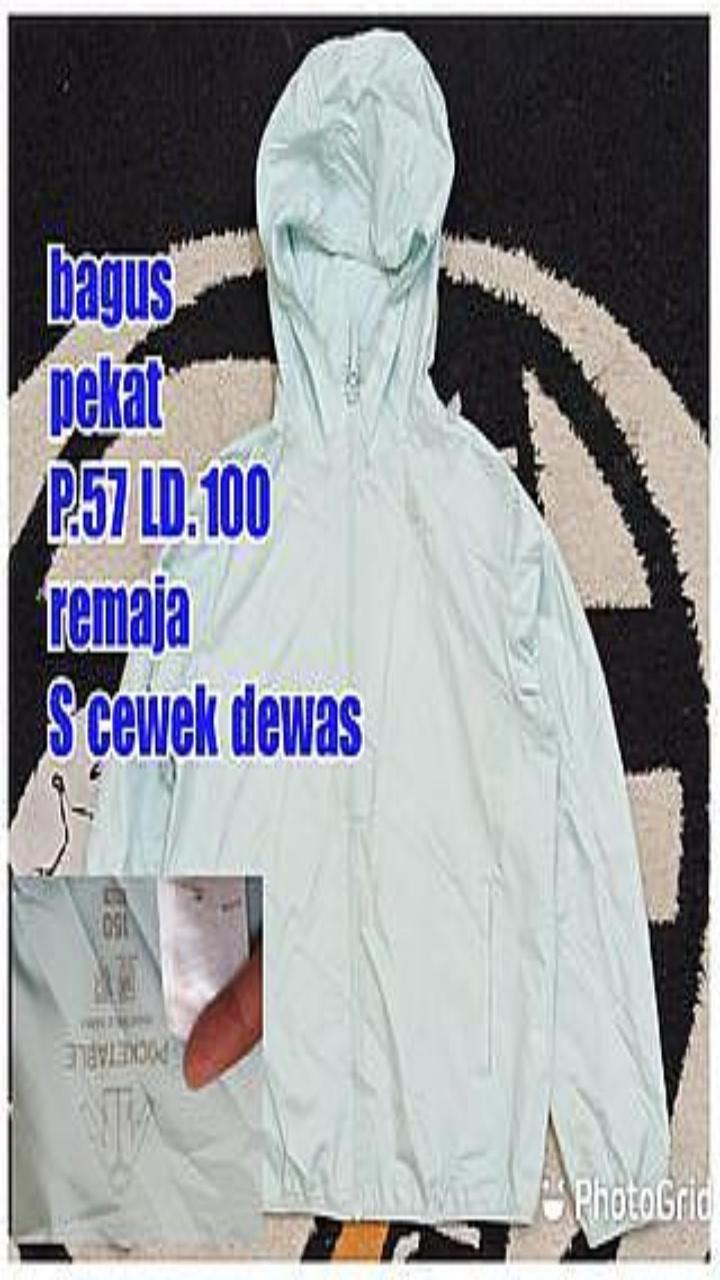Sports_Jacket: (88, 30, 668, 1221)
